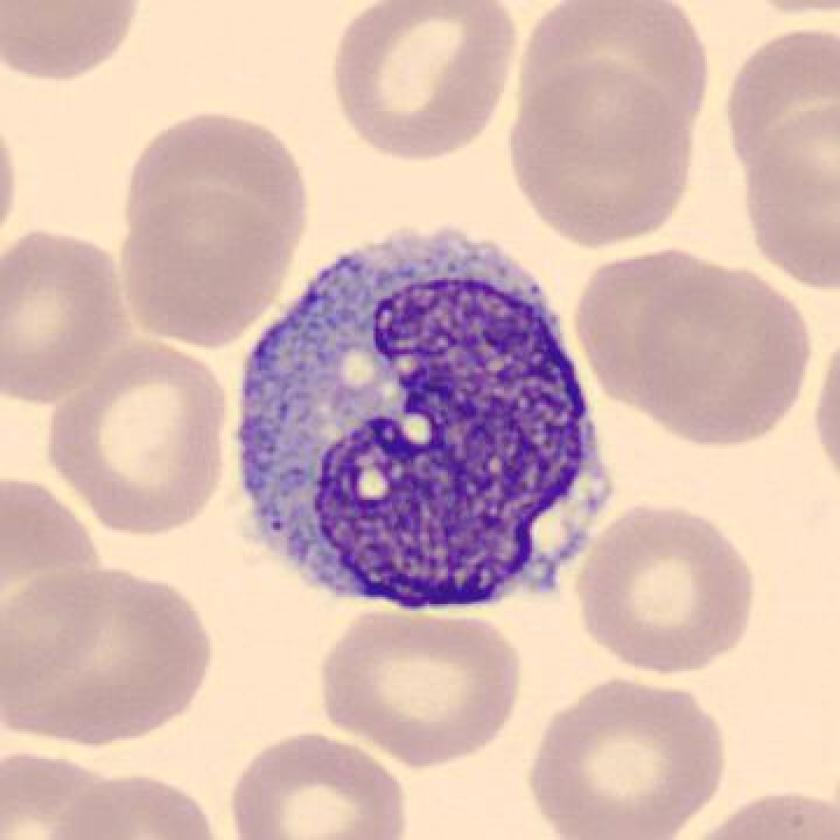monocyte: (218, 214, 626, 635)
